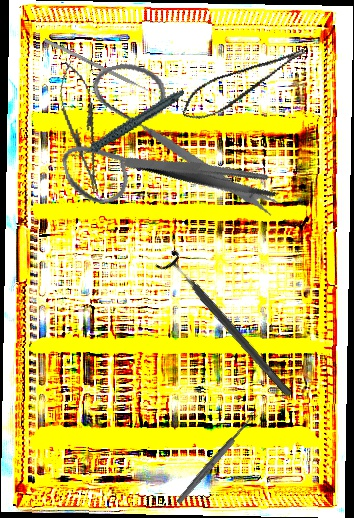Dressing Forceps: (122, 117, 282, 231)
Fixation Ring: (153, 246, 301, 406)
Handpiece: (62, 89, 194, 160)
Iris Scissors: (44, 36, 282, 259)
Micro Scissor: (175, 43, 315, 127)
Needle Holder: (51, 57, 112, 199)
Pusher: (43, 38, 161, 98)
Surgical Spoon: (175, 410, 259, 506)
